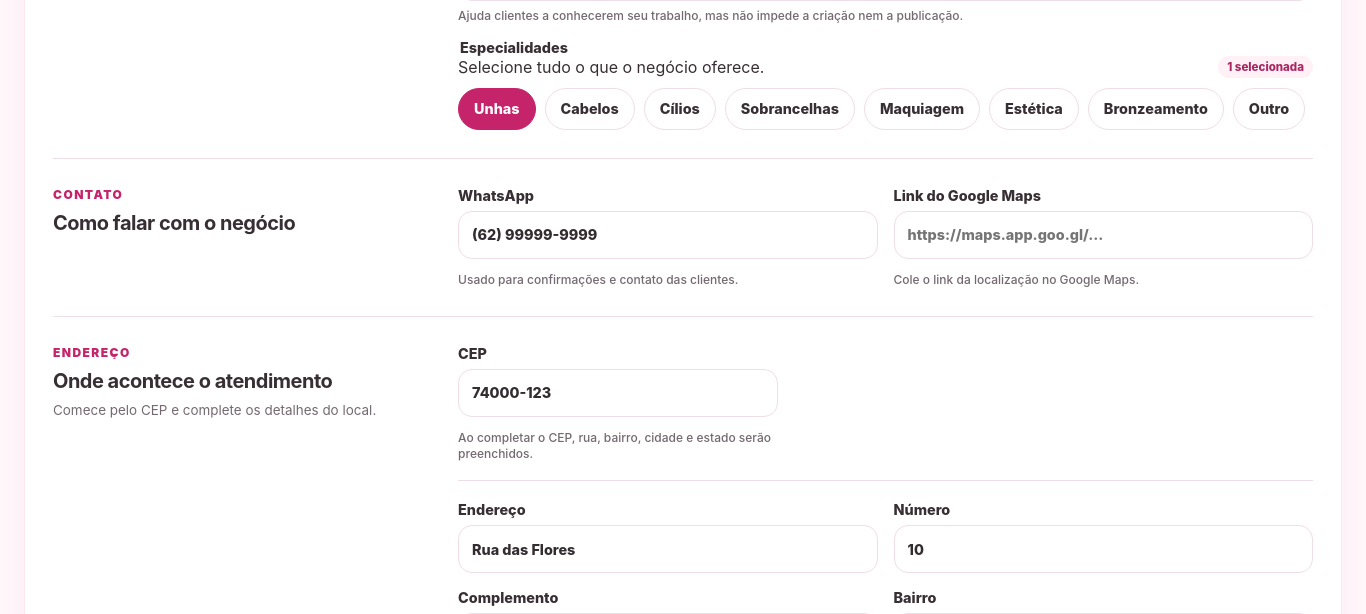
Test: publicação do negócio › mostra ações úteis, salva apenas depois de alterações e envia os campos normalizados
(page scrolled)
Expected: the text "1 selecionada" is shown, [1218,56,1313,78]
Expected: the button "Salvar alterações" is not shown
Step 1. Replace the text in the field labelled "WhatsApp Usado para confirmações e contato das clientes." with "11 98765-4321" → (668, 235), box [458,211,878,259]
(page scrolled)
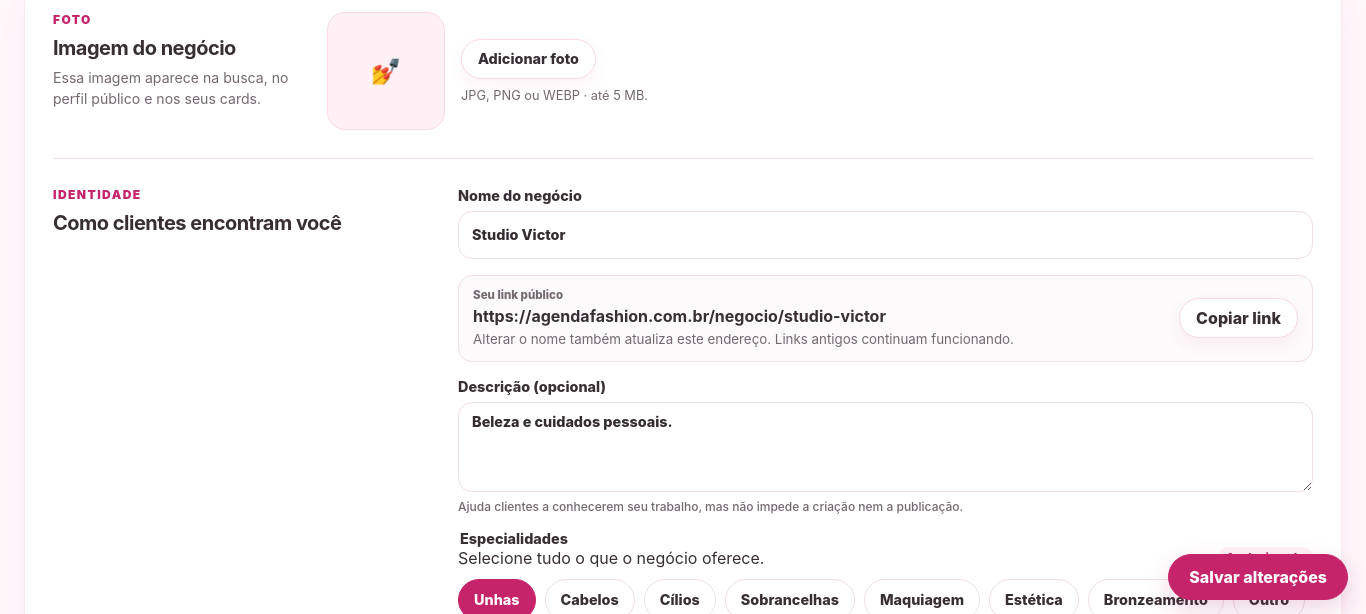
Step 2. Replace the text in the field labelled "Nome do negócio" with "Beauty Vanessa" → (886, 235), box [458,211,1313,259]
(page scrolled)
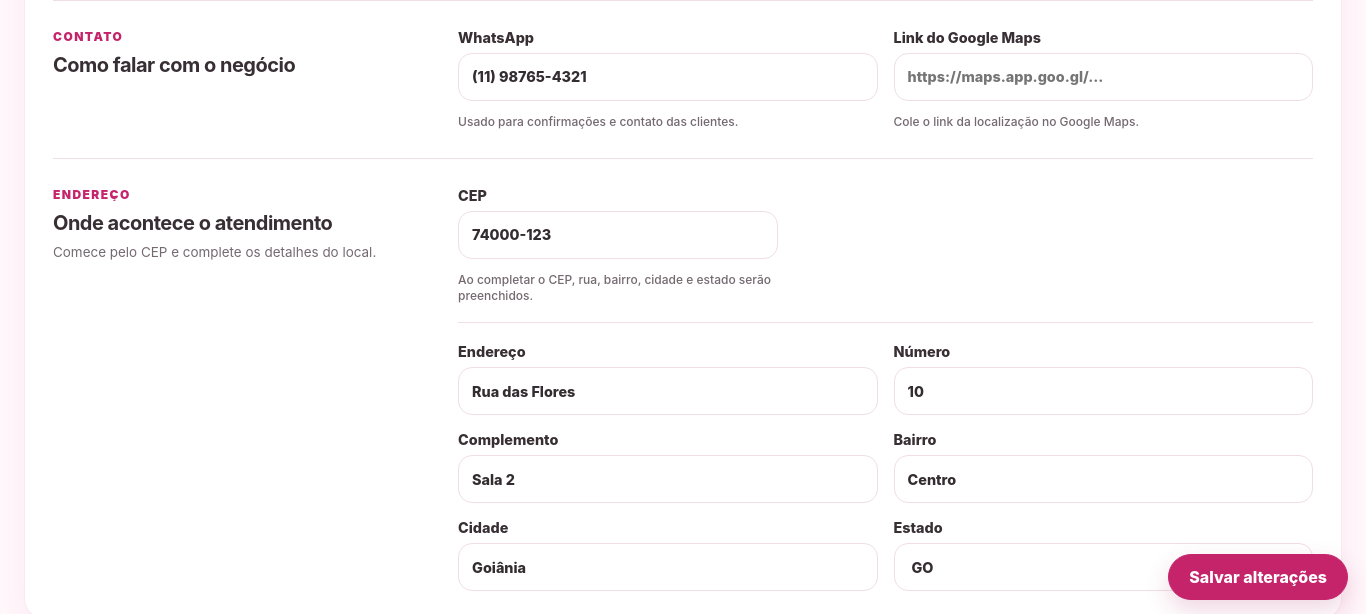
Step 3. Replace the text in the 3rd field with "01001-000" → (618, 235), box [458,211,778,259]
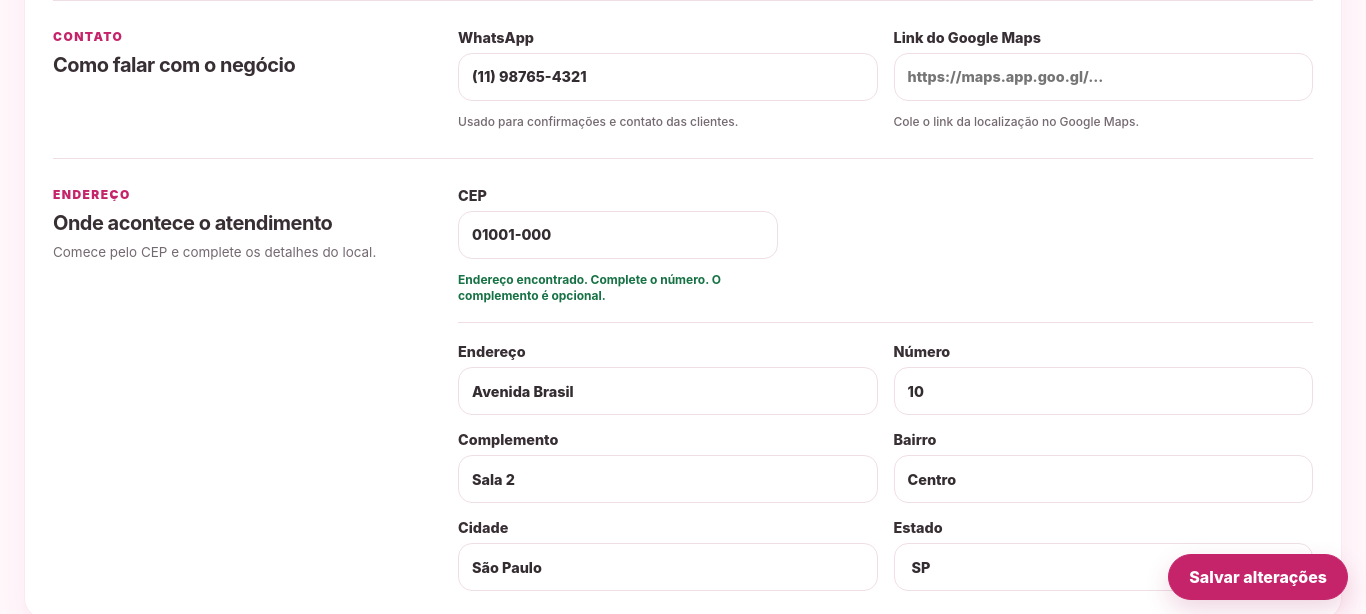
Expected: the button "Salvar alterações" is shown
Expected: the dropdown labelled "Estado" shows "SP", [894,543,1313,591]
Expected: the field labelled "Endereço" holds "Avenida Brasil", [458,367,878,415]
Step 4. Click the button "Salvar alterações" → (1258, 577), box [1168,554,1348,600]
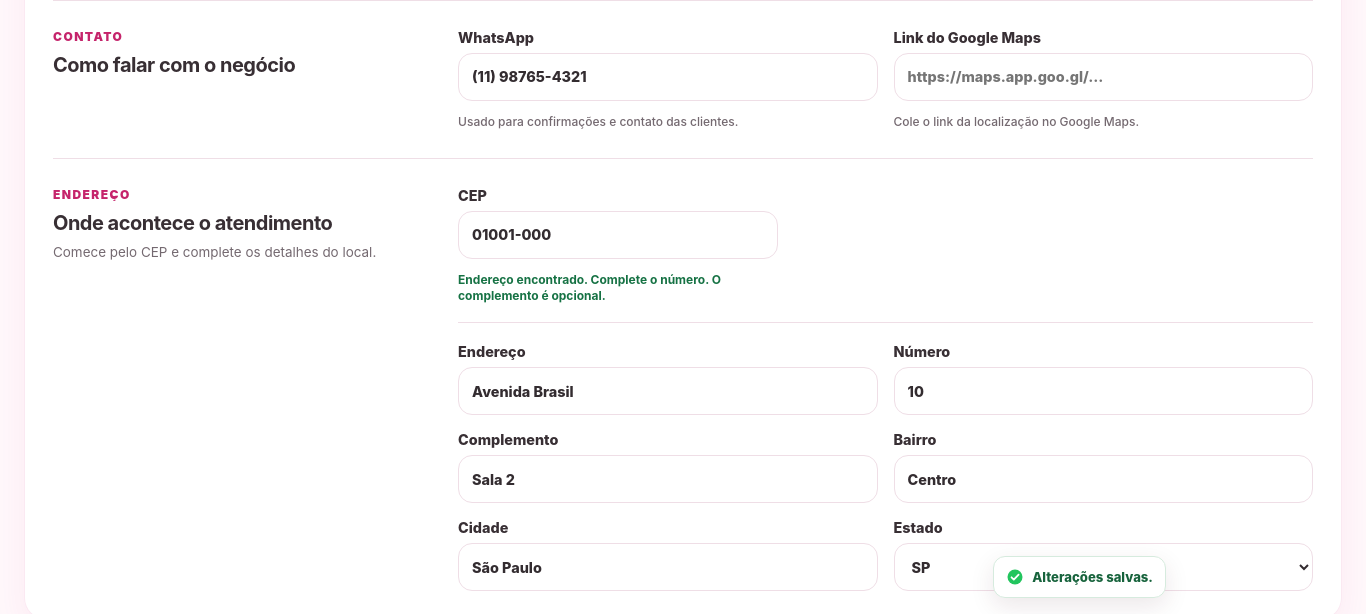
Expected: the button "Salvar alterações" is gone
